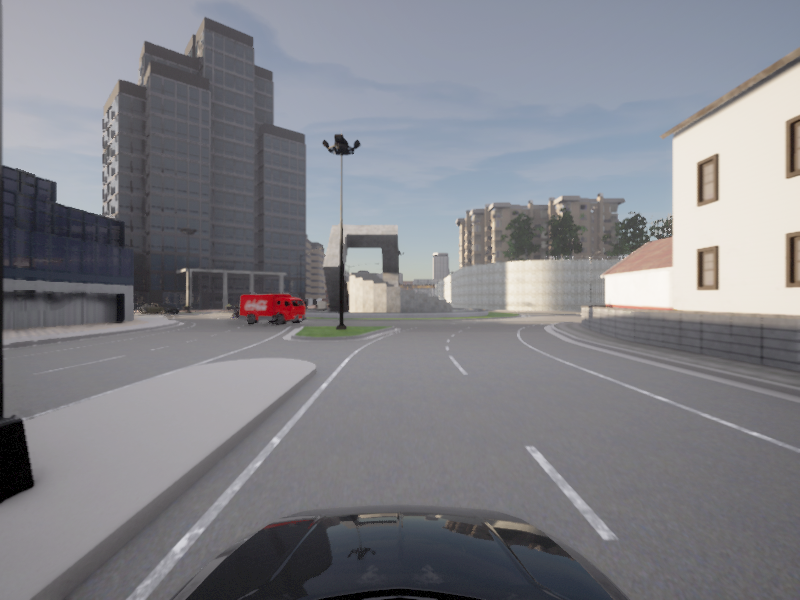vehicle: (237, 293, 310, 326), (228, 304, 243, 319)
